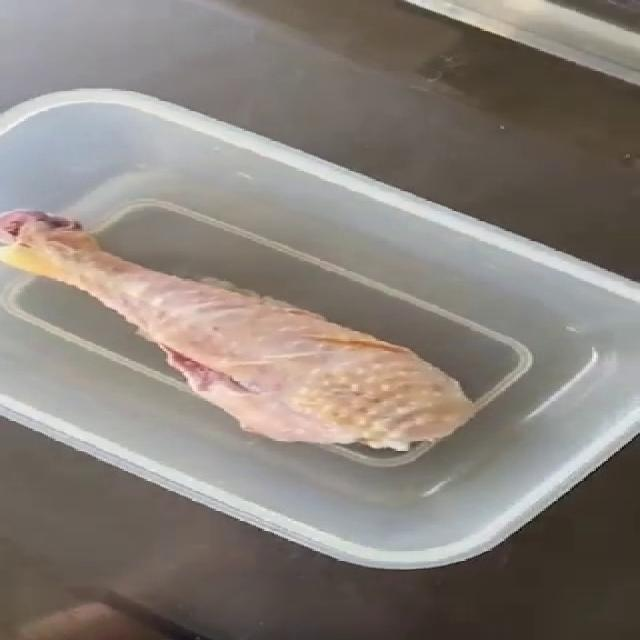chicken: (0, 207, 477, 456)
